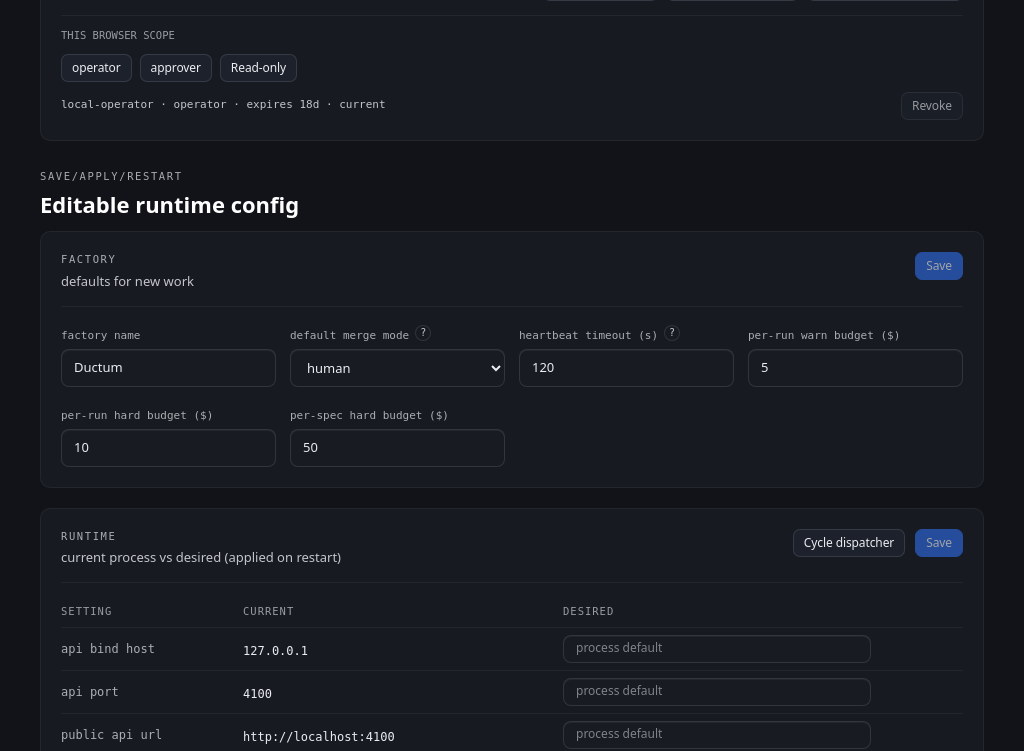
Test: Settings write status › reports a factory write as restart-required instead of applied
(page scrolled)
Replace the text in the field labelled "heartbeat timeout (s)" with "240" at (626, 368), box [519,348,734,386]
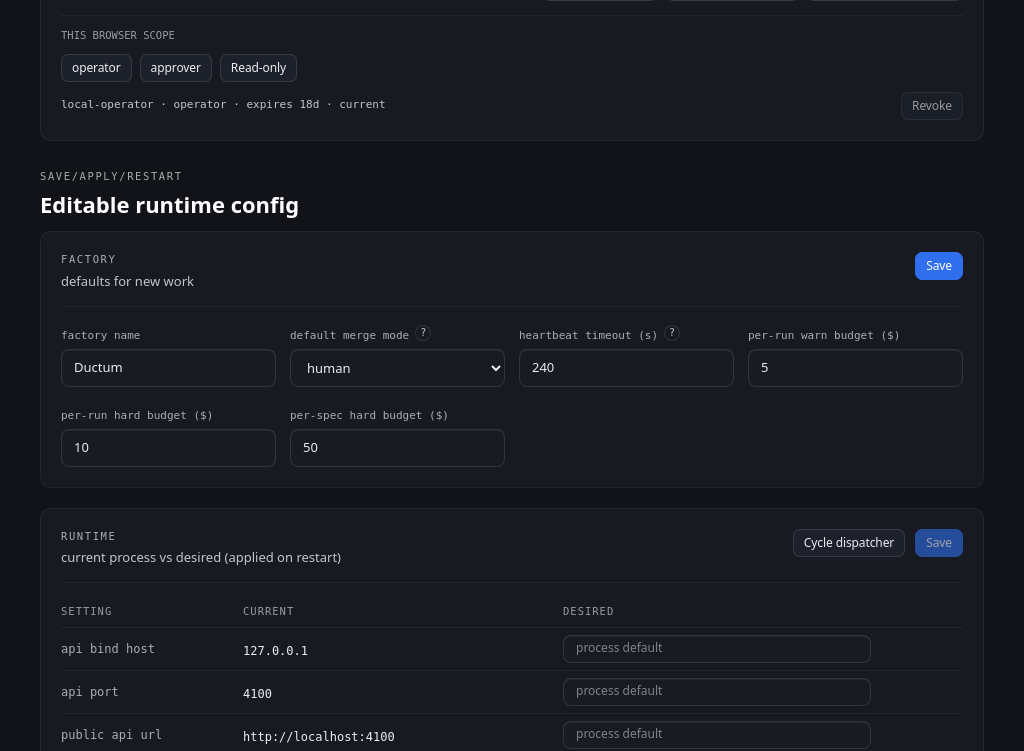
Click the button with aria-label "Save factory settings".
click(939, 266)  # box [915,252,963,280]
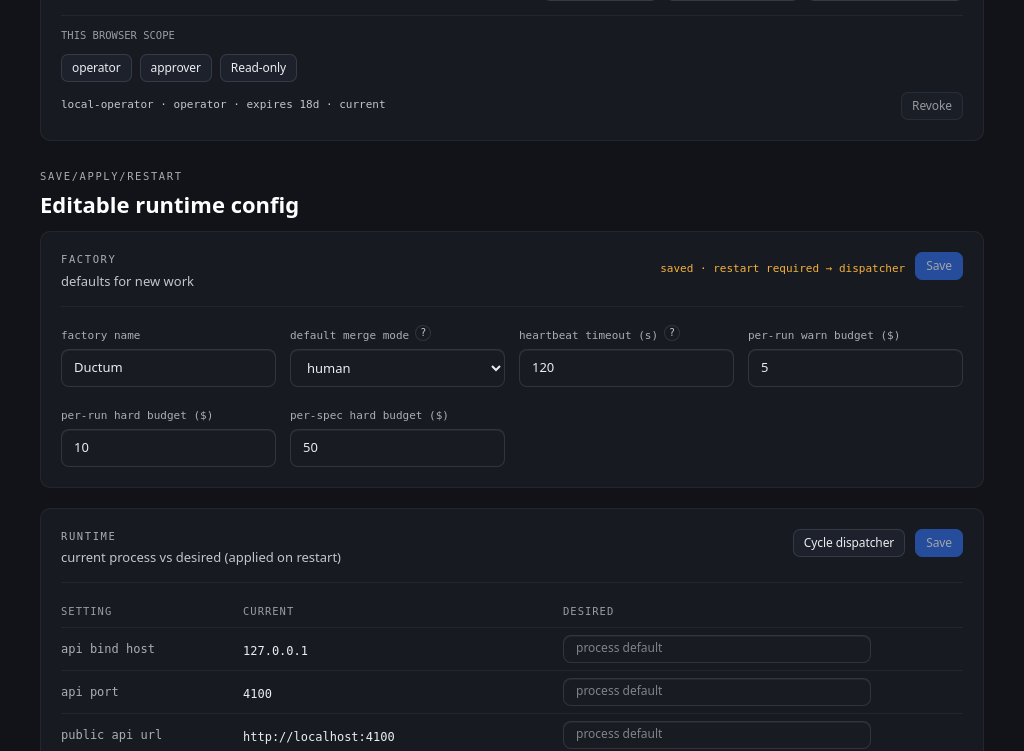
Expected: the element with test id "factory-settings-status" does not show "saved · applied", [660,262,905,275]
Expected: the element with test id "factory-settings-status" shows "restart required → dispatcher", [660,262,905,275]
